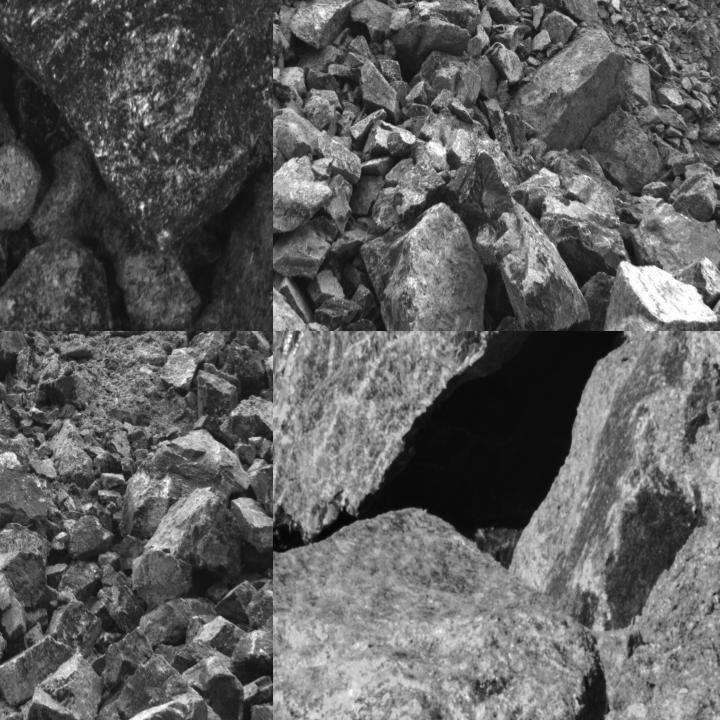stone: (273, 506, 599, 719), (0, 0, 272, 248), (446, 147, 590, 330), (273, 178, 439, 330), (360, 202, 490, 330), (168, 174, 272, 330), (109, 450, 235, 572), (505, 22, 620, 150), (98, 204, 199, 330), (147, 487, 243, 582), (597, 259, 717, 330), (540, 194, 626, 286), (583, 104, 663, 195), (33, 142, 101, 244), (96, 654, 202, 719), (395, 0, 481, 71), (21, 652, 106, 719), (168, 429, 251, 494), (0, 637, 74, 708), (0, 511, 53, 606), (273, 153, 333, 234), (0, 434, 49, 529), (273, 215, 339, 281), (91, 584, 148, 654), (144, 595, 217, 649), (0, 140, 40, 231), (187, 656, 243, 719), (132, 546, 192, 604), (392, 155, 444, 220), (227, 604, 272, 674), (49, 417, 96, 484), (288, 0, 352, 49), (50, 599, 105, 655), (273, 98, 321, 161), (567, 271, 616, 330), (105, 629, 153, 688), (360, 58, 401, 122), (672, 162, 716, 220), (351, 0, 410, 43), (227, 390, 272, 444), (317, 130, 361, 184), (99, 697, 207, 719), (670, 257, 719, 305), (231, 496, 272, 553), (222, 343, 266, 393), (197, 370, 239, 420), (69, 516, 116, 560), (218, 582, 266, 624), (196, 616, 245, 654), (160, 348, 198, 394), (0, 576, 26, 643), (323, 176, 353, 233), (487, 42, 526, 84), (314, 296, 362, 330), (188, 331, 232, 367), (0, 56, 16, 154), (348, 174, 385, 216), (62, 560, 100, 600), (248, 464, 272, 525), (308, 268, 344, 307), (548, 0, 599, 27), (541, 10, 576, 44), (305, 94, 335, 129), (0, 331, 30, 364), (235, 331, 272, 356), (244, 676, 272, 709), (483, 0, 521, 23), (351, 285, 376, 319), (388, 131, 416, 160), (29, 456, 59, 482), (486, 316, 530, 330), (376, 60, 402, 82), (101, 472, 129, 490), (312, 157, 332, 180), (273, 145, 285, 179), (530, 3, 544, 29), (656, 0, 688, 8), (266, 350, 272, 391)
